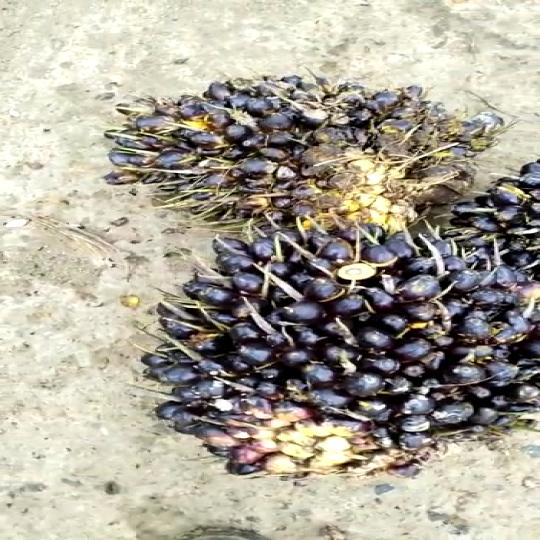mentah: (131, 231, 540, 481), (99, 66, 479, 241)
